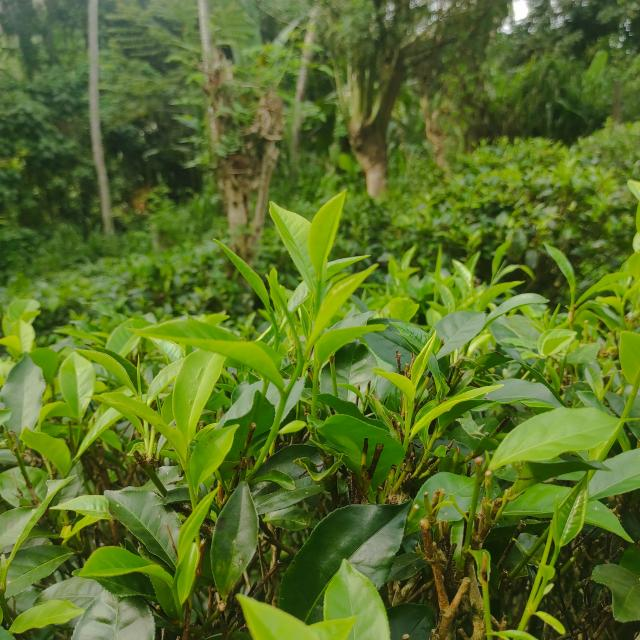unopened_leaf: (264, 268, 308, 368), (548, 489, 566, 552), (130, 349, 148, 401)
